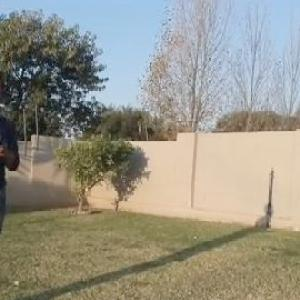follow: (0, 51, 22, 299)
